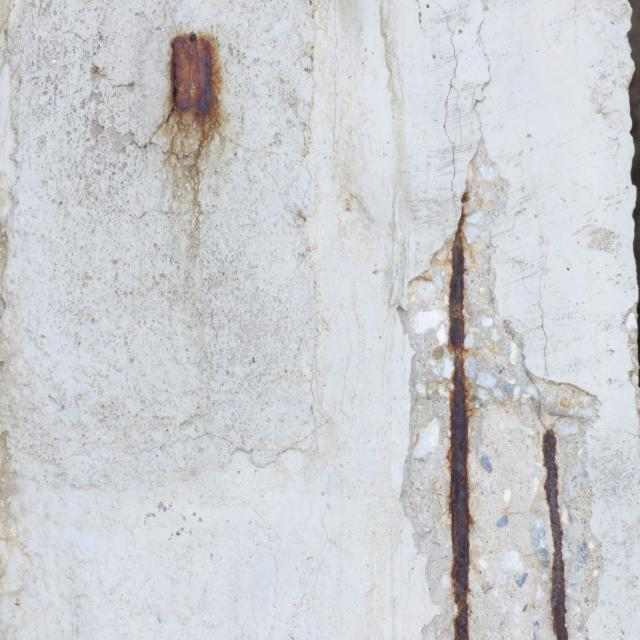corrosion: (396, 195, 496, 640), (155, 27, 235, 253), (528, 400, 580, 640)
